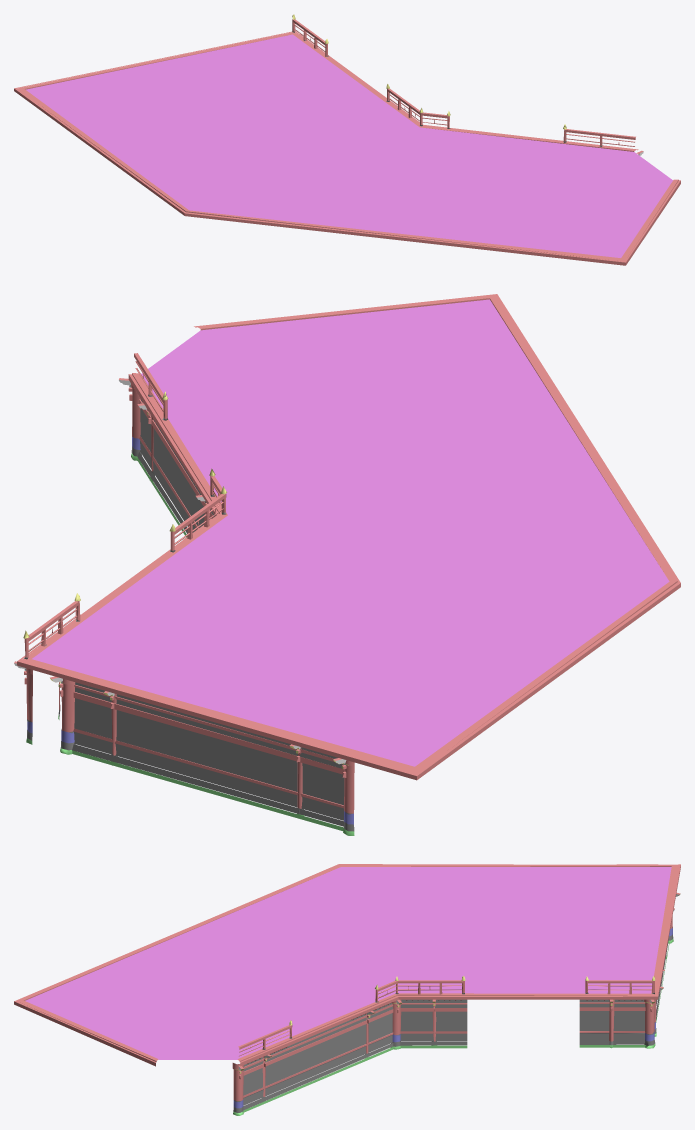
The model's file is SM_ENV_LKNVLD_WallSet_PlatformB_Lod3.gltf.
3 renders of one model, top to bottom at view 1: azimuth 30°, elevation 25°; view 2: azimuth 150°, elevation 25°; view 3: azimuth 270°, elevation 25°, orthographic. The views are drawn at different scales.
Visible parts, largest first — view 1: SM_ENV_LKNVLD_WallSet_PlatformB_Lod3; view 2: SM_ENV_LKNVLD_WallSet_PlatformB_Lod3; view 3: SM_ENV_LKNVLD_WallSet_PlatformB_Lod3.
Part boxes in pixels (x1=…): SM_ENV_LKNVLD_WallSet_PlatformB_Lod3: x1=14, y1=14, x2=680, y2=265; SM_ENV_LKNVLD_WallSet_PlatformB_Lod3: x1=14, y1=294, x2=680, y2=835; SM_ENV_LKNVLD_WallSet_PlatformB_Lod3: x1=14, y1=864, x2=680, y2=1115.
Bounding box in the file's own units: 48.44 × 8.12 × 67.74.
